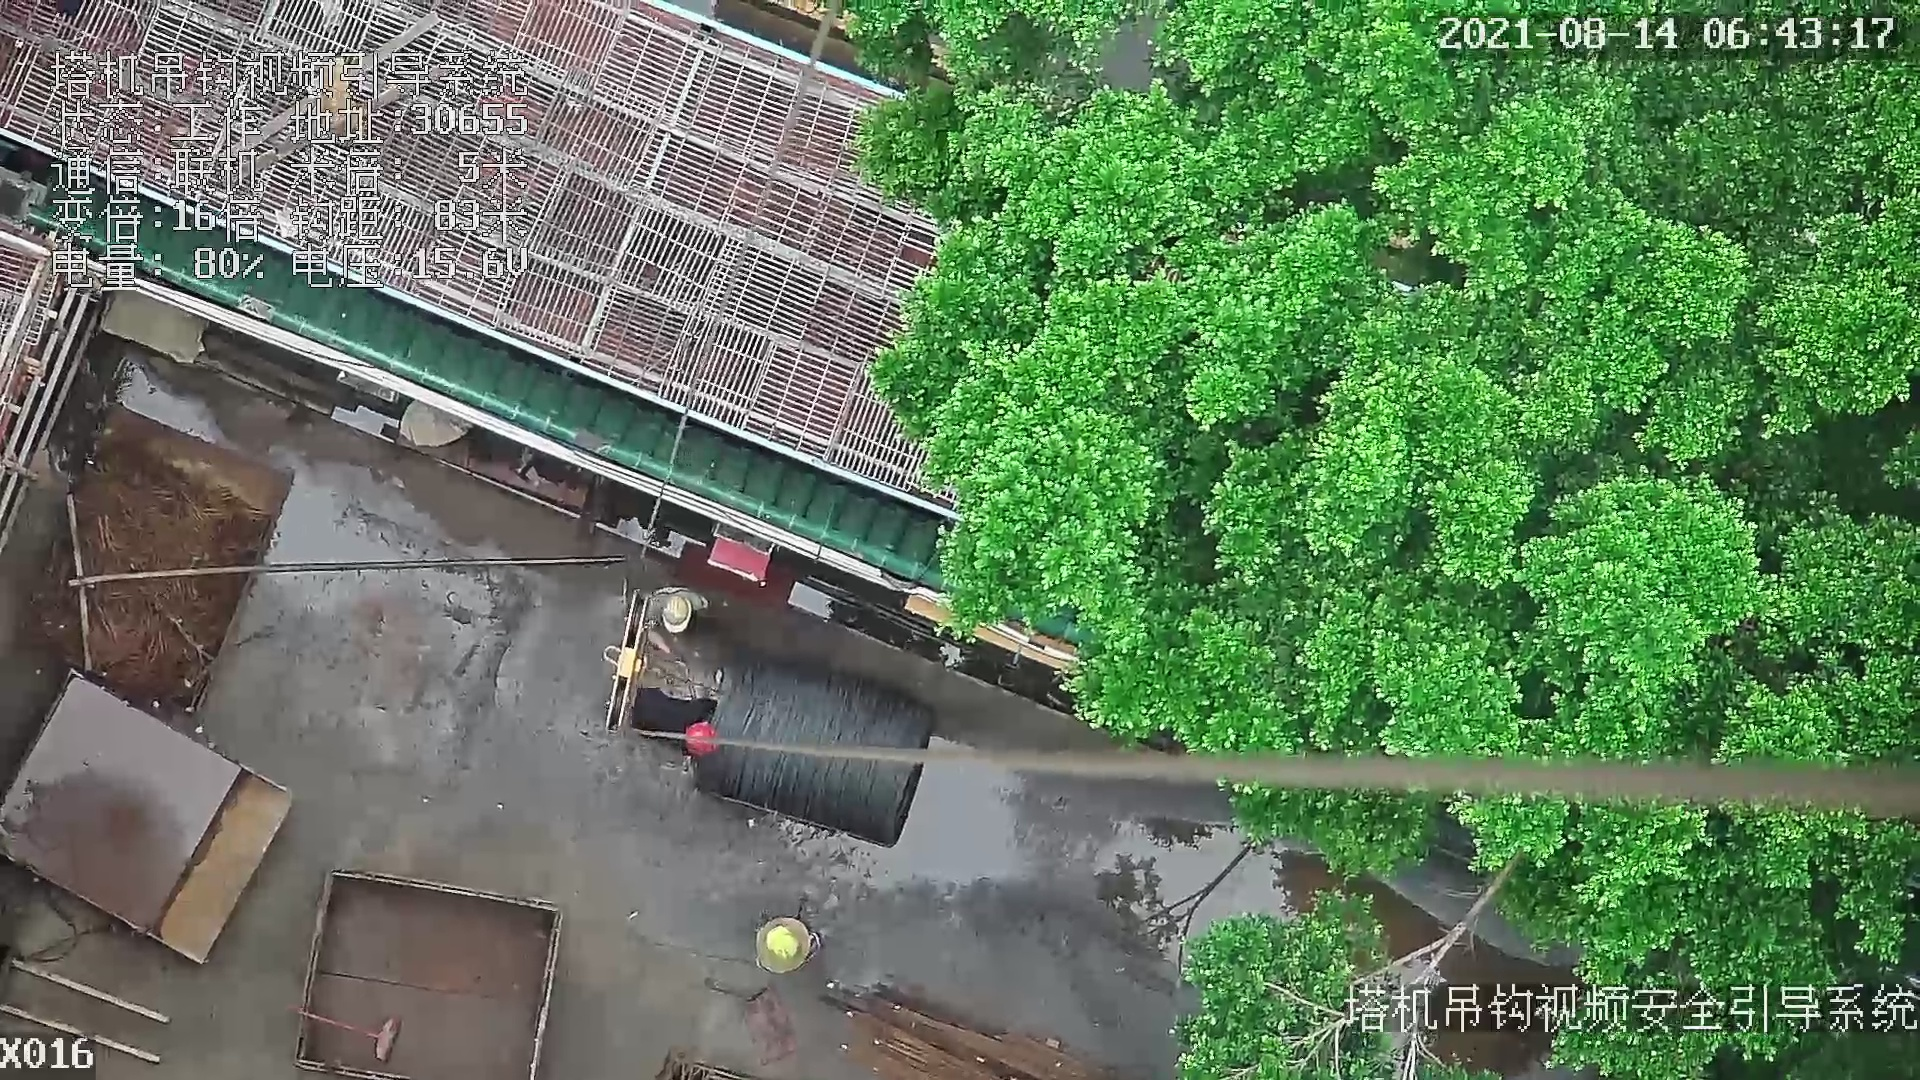helmet: (755, 919, 800, 960), (684, 715, 719, 764), (662, 593, 691, 634)
hook: (596, 581, 654, 735)
person: (620, 673, 728, 758), (635, 589, 719, 655), (759, 921, 841, 977)
